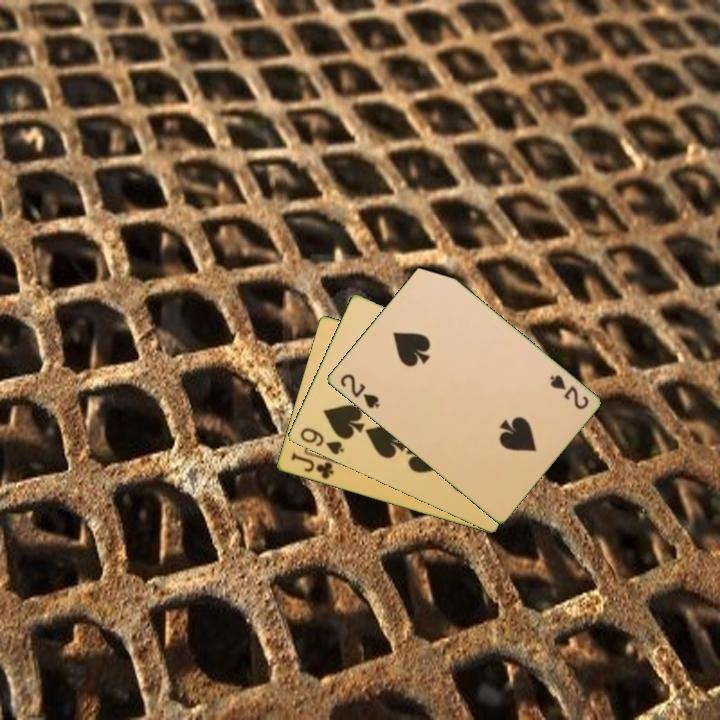2s: (336, 370, 382, 412), (545, 371, 591, 413)
9s: (296, 424, 347, 458)
Jc: (287, 449, 337, 482)
